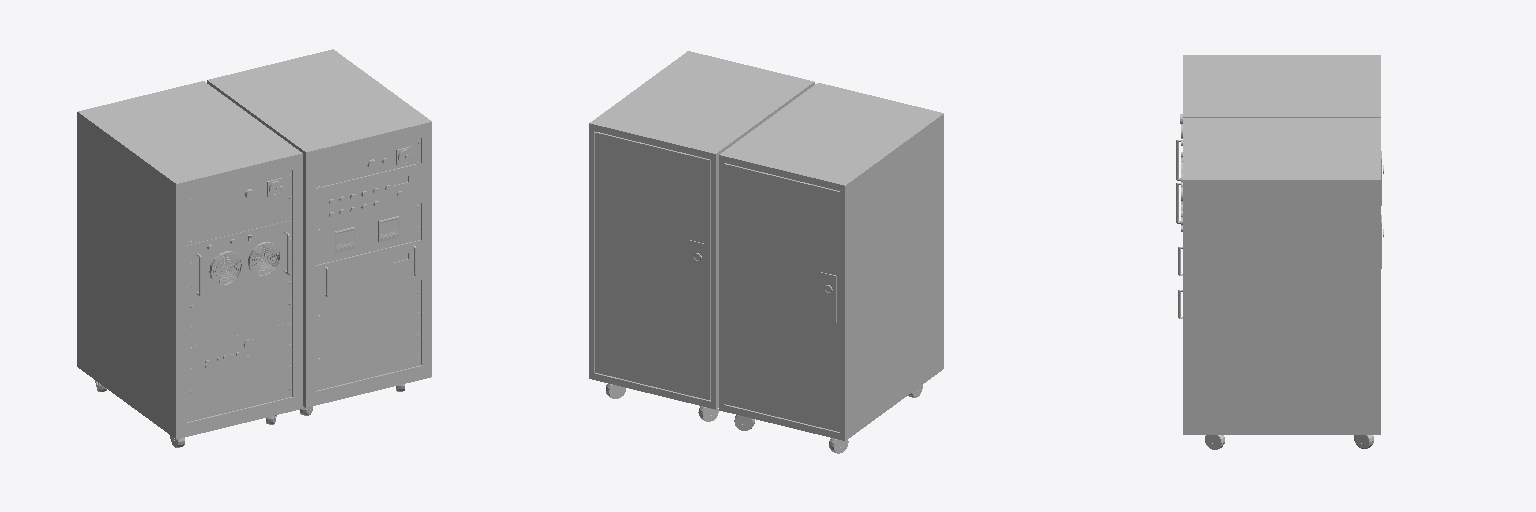
Rendered from dss.obj.
3 renders of one model, left to right at view 1: azimuth 30°, elevation 25°; view 2: azimuth 150°, elevation 25°; view 3: azimuth 270°, elevation 25°, orthographic.
Parts seen in each view (by area): view 1: Cube.029_Cube.048, Cube.033_Cube.059, Cube.030_Cube.056; view 2: Cube.029_Cube.048, Cube.035_Cube.063, Cube.034_Cube.061, Plane.012_Plane.016; view 3: Cube.029_Cube.048.
Boxes of the visible parts, x1=… form: Cube.029_Cube.048: x1=77, y1=49, x2=431, y2=439; Cube.033_Cube.059: x1=316, y1=240, x2=421, y2=305; Cube.030_Cube.056: x1=316, y1=163, x2=421, y2=228; Cube.029_Cube.048: x1=589, y1=51, x2=943, y2=440; Cube.035_Cube.063: x1=821, y1=272, x2=836, y2=322; Cube.034_Cube.061: x1=690, y1=240, x2=705, y2=290; Plane.012_Plane.016: x1=734, y1=385, x2=922, y2=453; Cube.029_Cube.048: x1=1176, y1=55, x2=1380, y2=434.
Size of the model in its own units: 9.9 by 10.23 by 6.95.